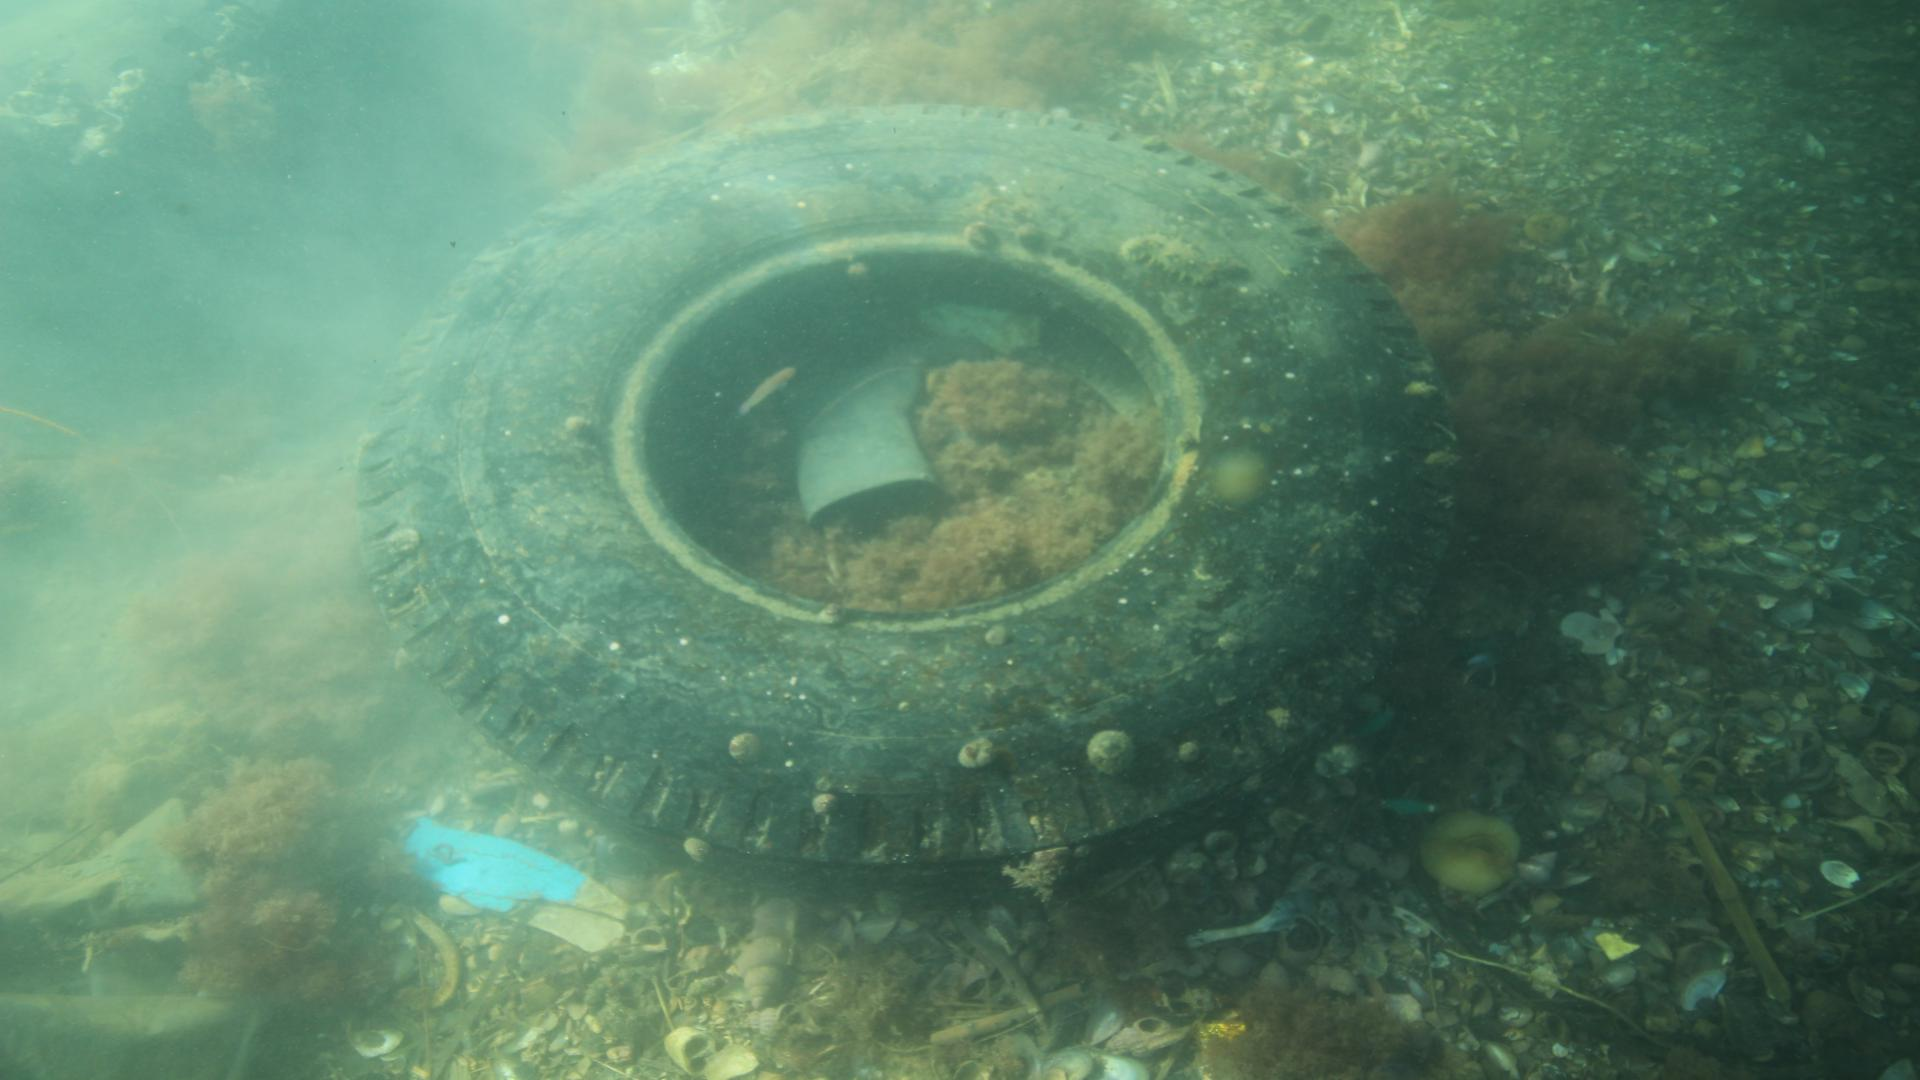tire: (352, 102, 1464, 884)
